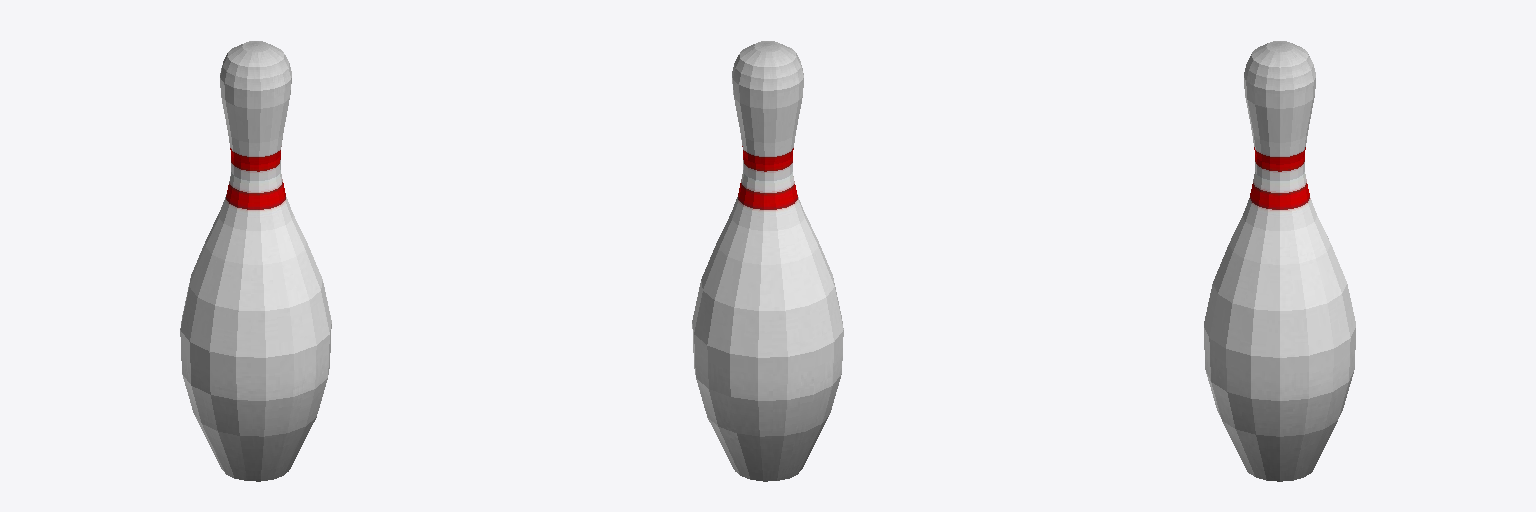
3 renders of one model, left to right at view 1: azimuth 30°, elevation 25°; view 2: azimuth 150°, elevation 25°; view 3: azimuth 270°, elevation 25°, orthographic.
Parts seen in each view (by area): view 1: Empty_Mesh_Mesh; view 2: Empty_Mesh_Mesh; view 3: Empty_Mesh_Mesh.
Part boxes in pixels (left/top/right/bottom): Empty_Mesh_Mesh: left=180, top=41, right=331, bottom=481; Empty_Mesh_Mesh: left=692, top=41, right=843, bottom=481; Empty_Mesh_Mesh: left=1204, top=41, right=1355, bottom=481.
Bounding box in the file's own units: 0.0012 × 0.0038 × 0.0012.
Materials: 1 (1 with a texture image).